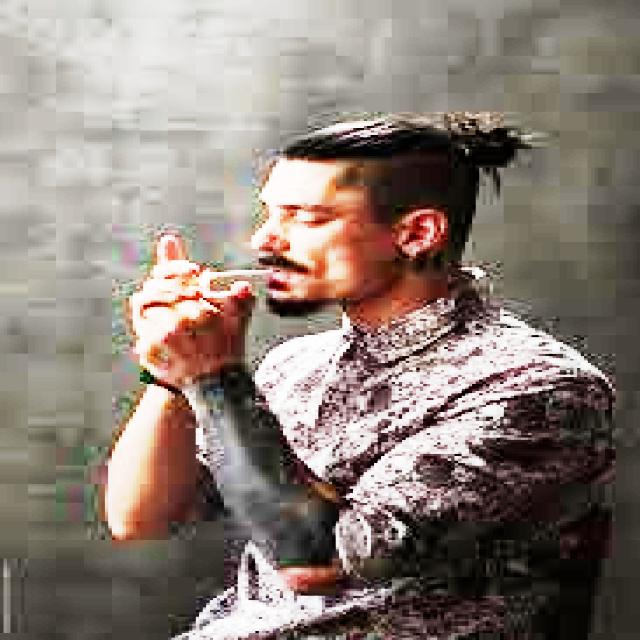api: (193, 264, 211, 292)
